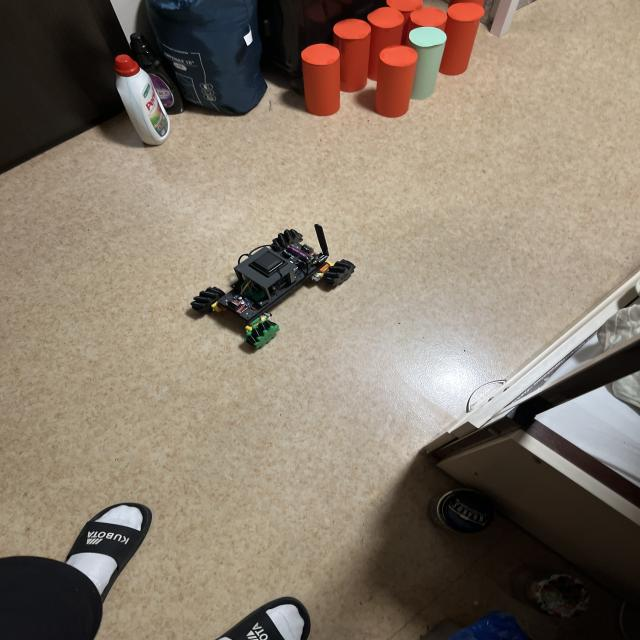robot: (191, 224, 355, 348)
